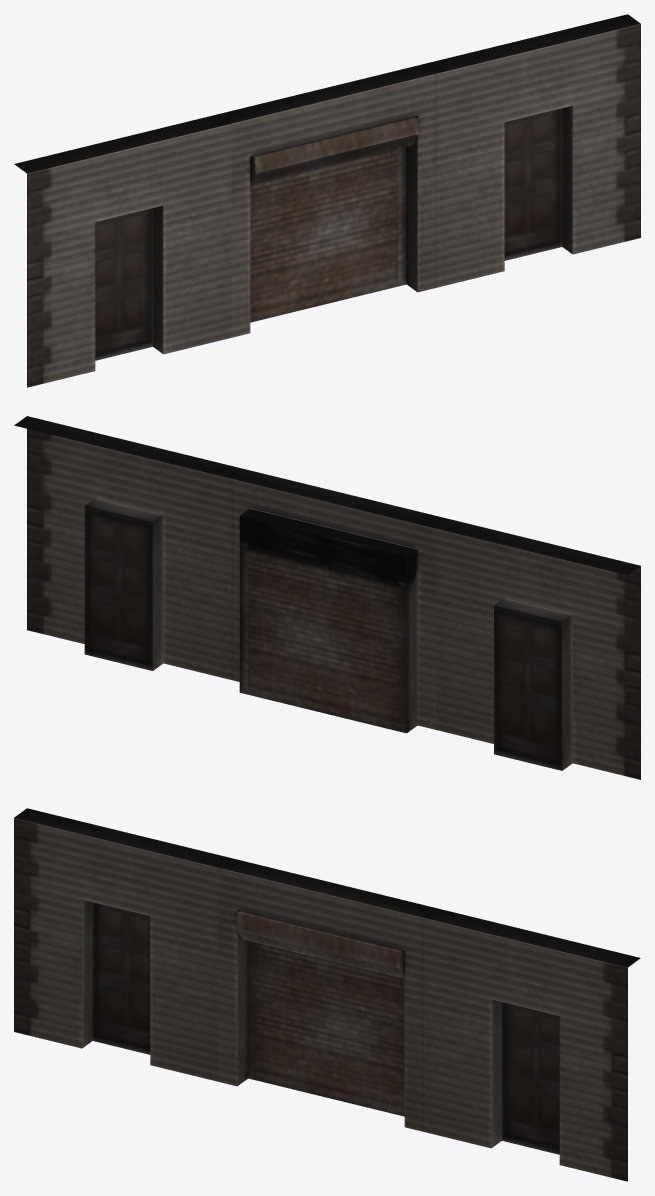
File: B5_FirstFloor.FBX
3 renders of one model, top to bottom at view 1: azimuth 30°, elevation 25°; view 2: azimuth 150°, elevation 25°; view 3: azimuth 330°, elevation 25°, orthographic.
Visible parts, largest first — view 1: B5_FirstFloor; view 2: B5_FirstFloor; view 3: B5_FirstFloor.
Part boxes in pixels (box(x1,y1,x2,y2)): B5_FirstFloor: box(14, 14, 640, 387); B5_FirstFloor: box(14, 416, 640, 779); B5_FirstFloor: box(14, 808, 640, 1181).
Size of the model in its own units: 12 by 4 by 0.5431.
